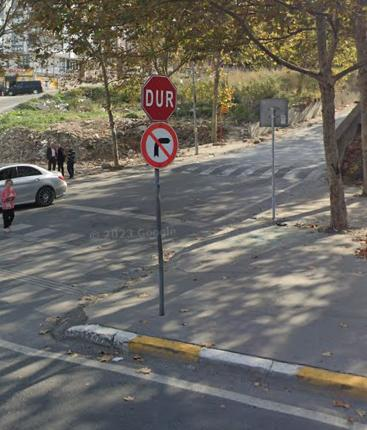rightturnsareforbidden: (141, 127, 178, 165)
stop: (144, 76, 174, 120)
